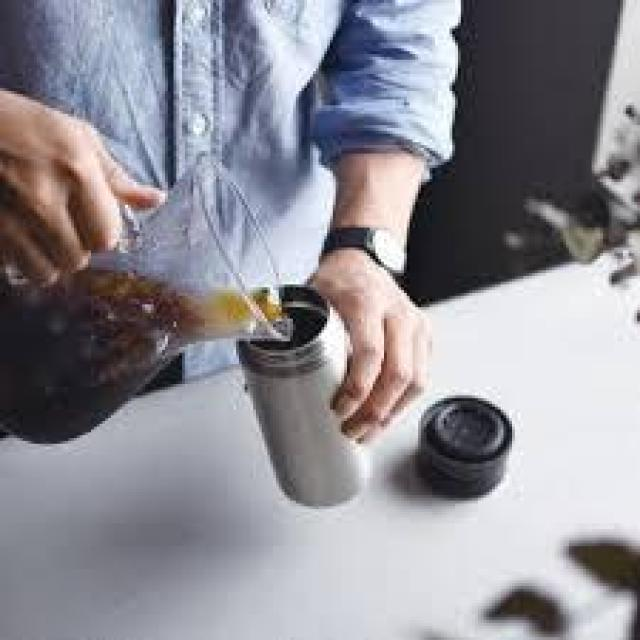bottle: (226, 283, 391, 513)
